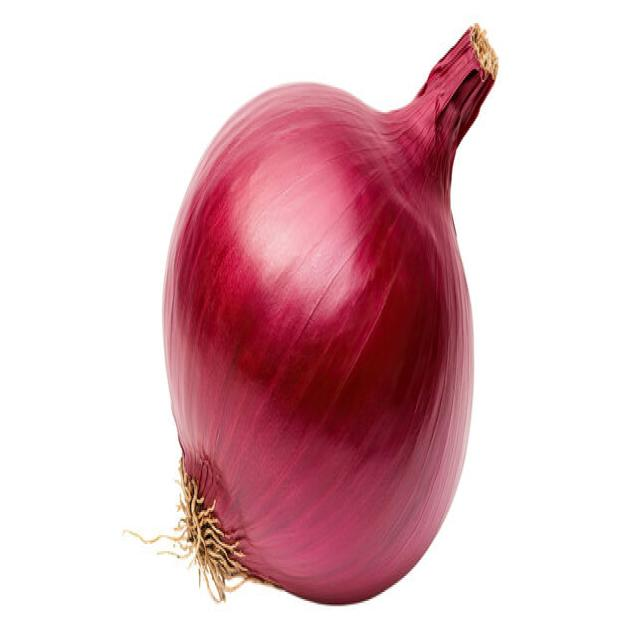Onion: (122, 20, 498, 606)
